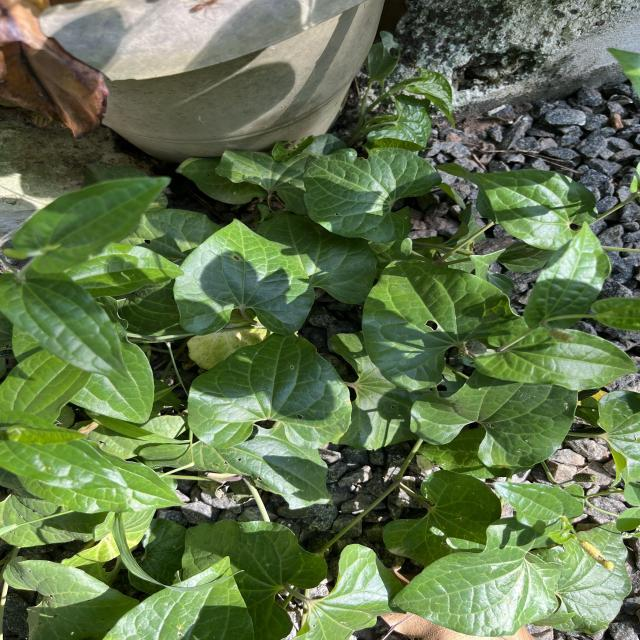Piper longum: (388, 514, 560, 638), (186, 332, 354, 451), (172, 216, 316, 337), (301, 145, 444, 245), (472, 168, 600, 252)
